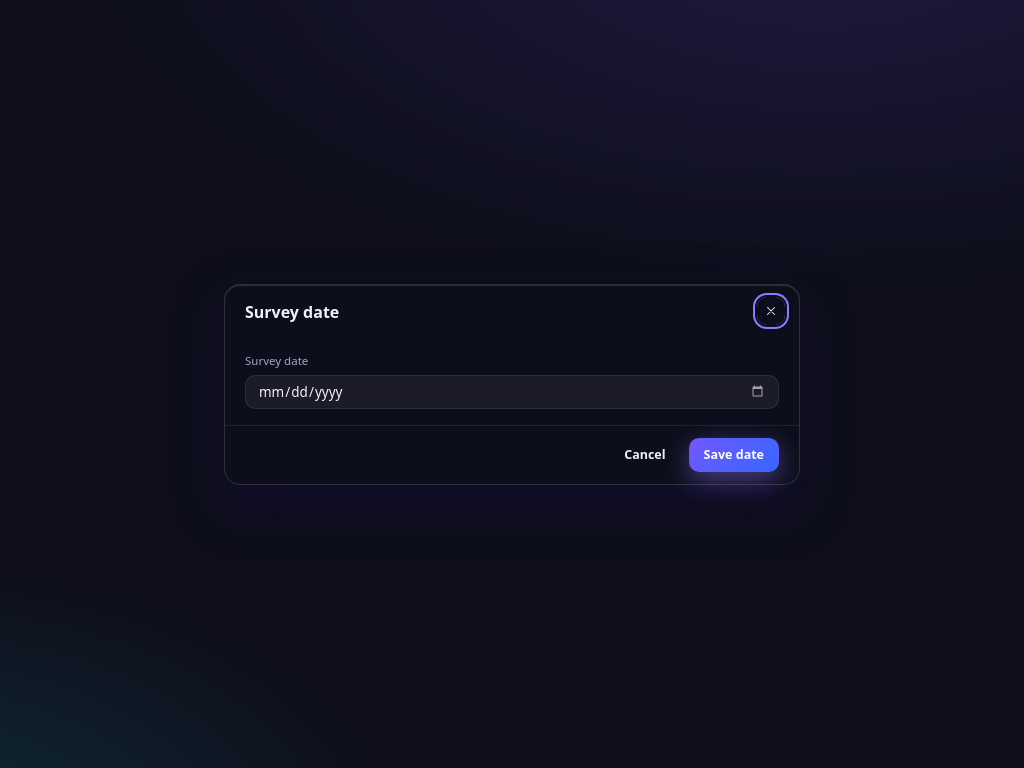
Test case: raster dialog fallbacks › survey date says it could not save, in sentence case
Click the button "Save date".
click(734, 454)  # box [688,438,779,472]
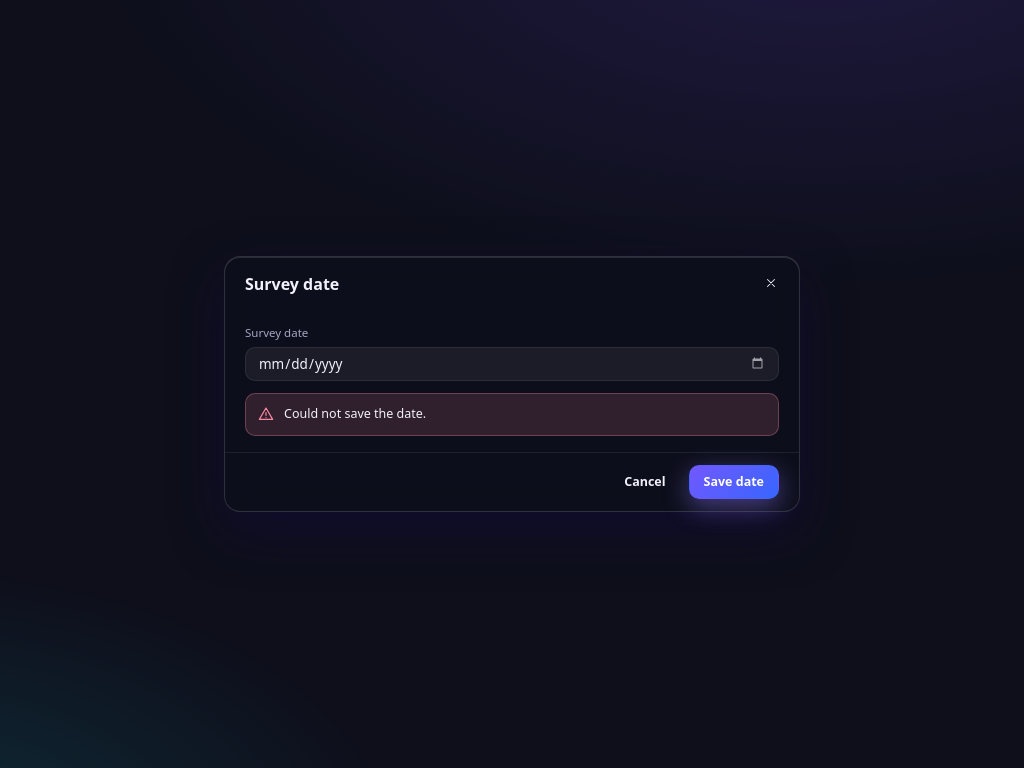
Now the text "Could not save the date." is shown, box [284,405,426,422]
